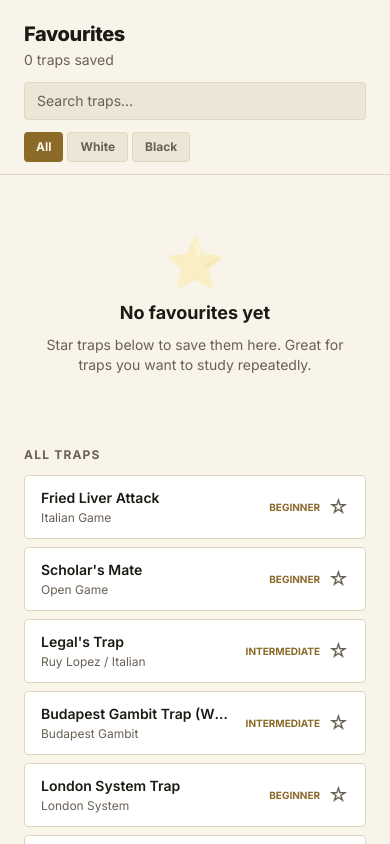
Test case: FavouritesPage › starring a trap moves it into "Your Favourites" and updates the store
Click the button "☆" in the row of "Fried Liver Attack" at (339, 507), box [328, 493, 349, 521]
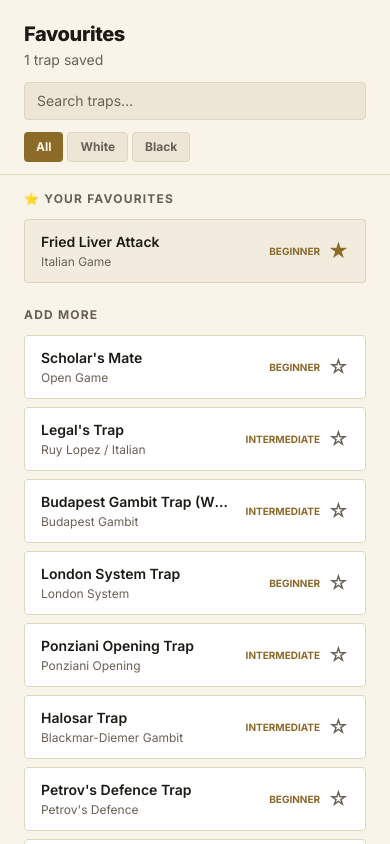
Check: the text "⭐ Your Favourites" is shown, box [24, 191, 174, 206]
Check: the text "Add More" is shown, box [24, 307, 98, 322]
